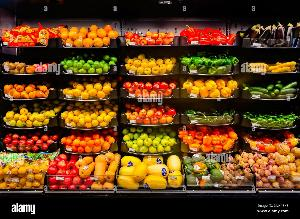apple: (120, 101, 176, 130), (122, 127, 178, 155), (59, 52, 120, 76), (122, 49, 178, 75), (123, 76, 179, 96), (0, 134, 60, 152), (124, 26, 176, 46)
bell_pepper: (176, 126, 238, 152), (183, 48, 237, 76), (244, 131, 300, 155), (242, 108, 300, 130), (180, 24, 236, 46), (182, 79, 238, 99), (182, 106, 236, 126)
cucumber: (244, 76, 300, 102)
eggplant: (240, 22, 300, 48)
kiwi: (1, 58, 28, 74)
lemon: (0, 153, 50, 191), (61, 104, 117, 130)
melon: (117, 155, 181, 191)
orange: (59, 18, 120, 48), (1, 24, 60, 50), (60, 131, 118, 153)
pear: (1, 105, 60, 129), (1, 82, 56, 100)
pomegranate: (47, 154, 79, 190)
